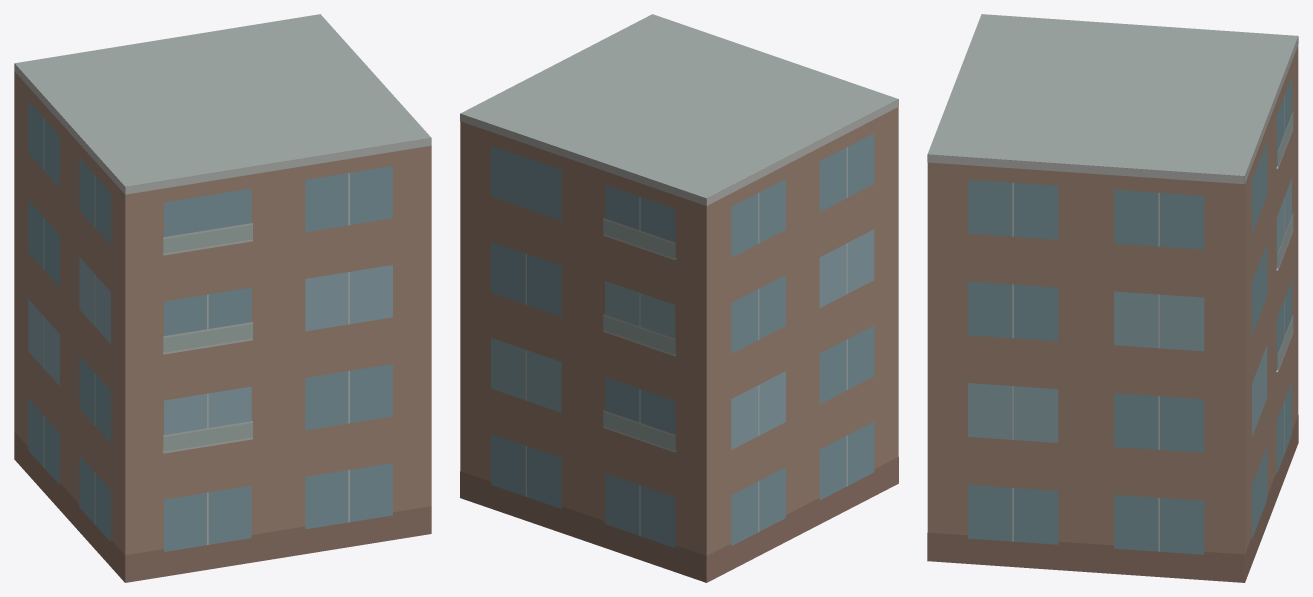
Rendered from residential-01a01aea-e3a1-4b89-9e47-301e618dffec.glb.
3 views of the same model, side by side, from view 1: azimuth 30°, elevation 25°; view 2: azimuth 150°, elevation 25°; view 3: azimuth 270°, elevation 25° (orthographic). The views are drawn at different scales.
Parts seen in each view (by area): view 1: residential-01a01aea-e3a1-4b89-9e47-301e618dffec.tmp; view 2: residential-01a01aea-e3a1-4b89-9e47-301e618dffec.tmp; view 3: residential-01a01aea-e3a1-4b89-9e47-301e618dffec.tmp.
Part boxes in pixels (left/top/right/bottom): residential-01a01aea-e3a1-4b89-9e47-301e618dffec.tmp: left=14, top=14, right=431, bottom=582; residential-01a01aea-e3a1-4b89-9e47-301e618dffec.tmp: left=460, top=14, right=898, bottom=582; residential-01a01aea-e3a1-4b89-9e47-301e618dffec.tmp: left=927, top=14, right=1298, bottom=582.
Bounding box in the file's own units: 10.44 × 12.2 × 10.1.
